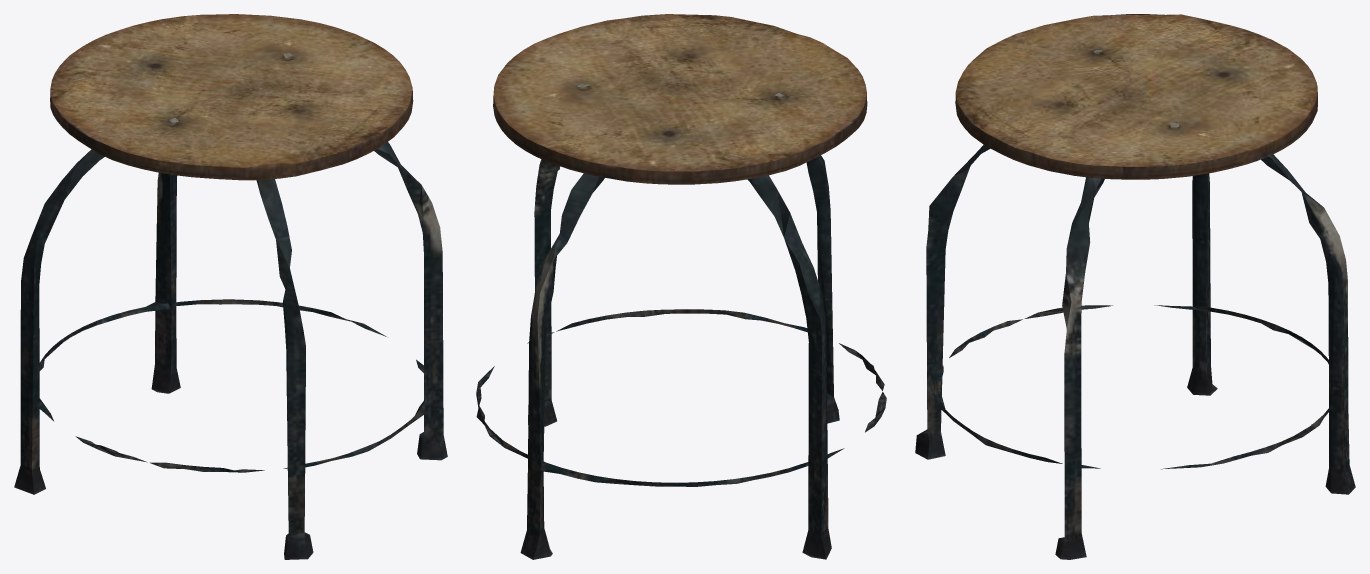
The model's file is stool_low.glb.
The picture shows the model from 3 angles, left to right: view 1: azimuth 30°, elevation 25°; view 2: azimuth 150°, elevation 25°; view 3: azimuth 270°, elevation 25°; orthographic projection. The views are drawn at different scales.
Visible parts, largest first — view 1: mesh; view 2: mesh; view 3: mesh.
Part boxes in pixels (<box>): mesh: <box>14,14,447,559</box>; mesh: <box>476,14,886,559</box>; mesh: <box>915,14,1355,559</box>.
Bounding box in the file's own units: 0.4504 × 0.46 × 0.4767.
Materials: 1 (1 with a texture image).
